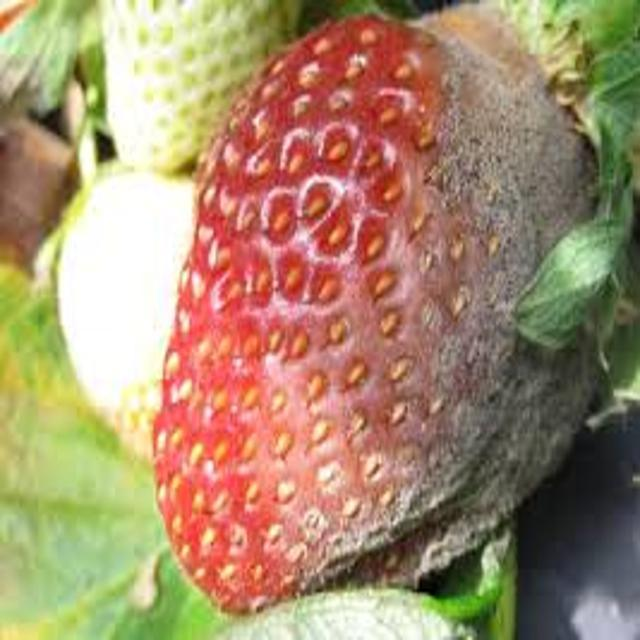Botrytis: (151, 15, 612, 590)
